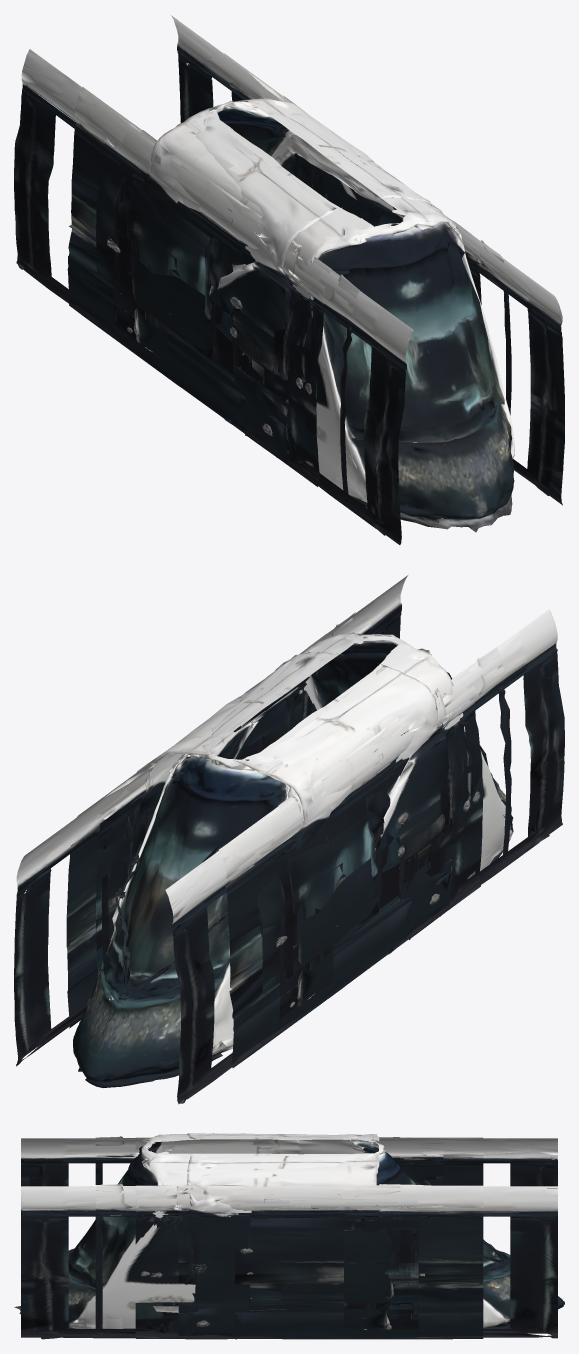
The model's file is nantes405_body.glb.
3 views of the same model, one above another, from view 1: azimuth 30°, elevation 25°; view 2: azimuth 150°, elevation 25°; view 3: azimuth 270°, elevation 25° (orthographic). The views are drawn at different scales.
Visible parts, largest first — view 1: Module06, Module00, Module03, Module04, Module05, Module01, Module02; view 2: Module00, Module06, Module03, Module05, Module04, Module01, Module02; view 3: Module06, Module03, Module00, Module02, Module01, Module05, Module04.
Part boxes in pixels (bbox=[...]): Module06: bbox=[14, 15, 514, 532]; Module00: bbox=[145, 101, 564, 544]; Module03: bbox=[67, 53, 511, 502]; Module04: bbox=[127, 95, 405, 463]; Module05: bbox=[96, 90, 481, 484]; Module01: bbox=[96, 91, 481, 486]; Module02: bbox=[127, 96, 441, 464]; Module00: bbox=[73, 575, 564, 1087]; Module06: bbox=[14, 632, 513, 1104]; Module03: bbox=[66, 612, 511, 1067]; Module05: bbox=[96, 635, 482, 1045]; Module04: bbox=[130, 681, 451, 1003]; Module01: bbox=[96, 645, 482, 1044]; Module02: bbox=[127, 678, 451, 997]; Module06: bbox=[14, 1134, 557, 1338]; Module03: bbox=[95, 1136, 483, 1339]; Module00: bbox=[21, 1133, 564, 1339]; Module02: bbox=[178, 1137, 400, 1338]; Module01: bbox=[135, 1137, 443, 1339]; Module05: bbox=[135, 1138, 443, 1338]; Module04: bbox=[178, 1137, 400, 1338].
Bounding box in the file's own units: 2.4 × 3.18 × 9.6.
1 material, 1 textured.
